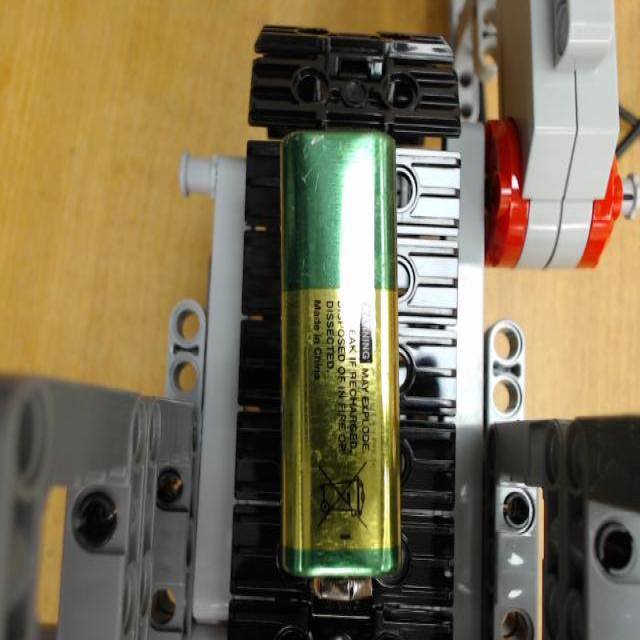9V: (276, 131, 396, 598)
